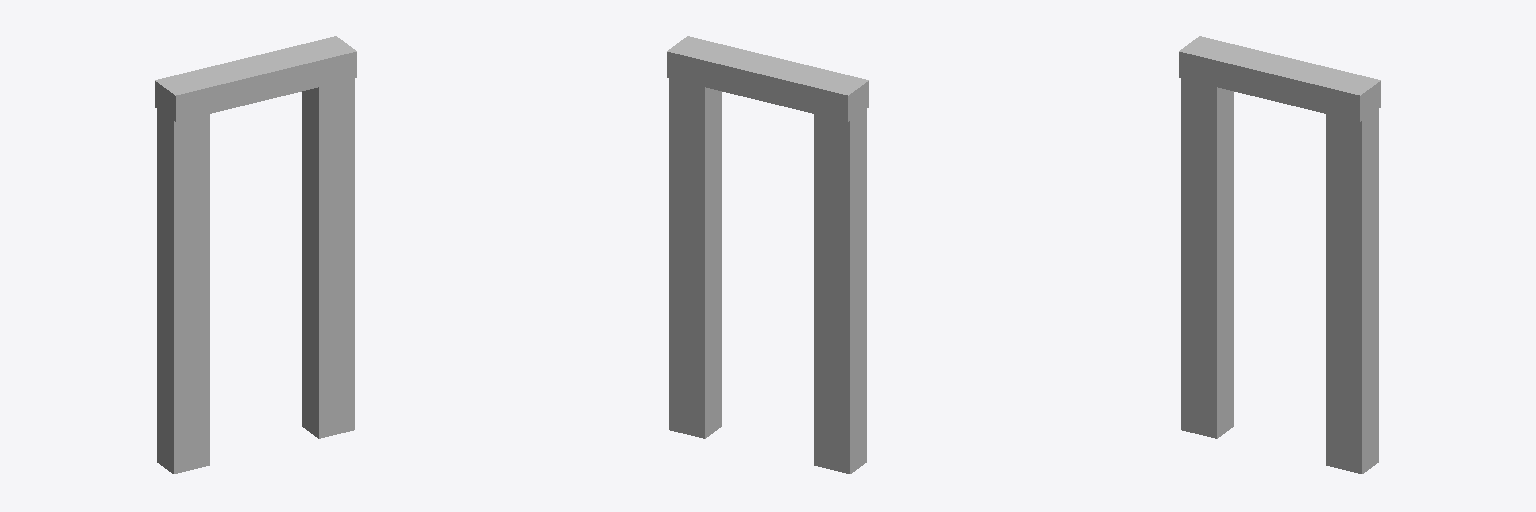
File: Doorframe.obj
3 views of the same model, side by side, from view 1: azimuth 30°, elevation 25°; view 2: azimuth 150°, elevation 25°; view 3: azimuth 330°, elevation 25° (orthographic).
Parts seen in each view (by area): view 1: Doorframe; view 2: Doorframe; view 3: Doorframe.
Boxes of the visible parts, x1=… form: Doorframe: x1=155, y1=36, x2=356, y2=473; Doorframe: x1=667, y1=36, x2=868, y2=473; Doorframe: x1=1179, y1=36, x2=1380, y2=473.
Size of the model in its own units: 50 by 100 by 10.